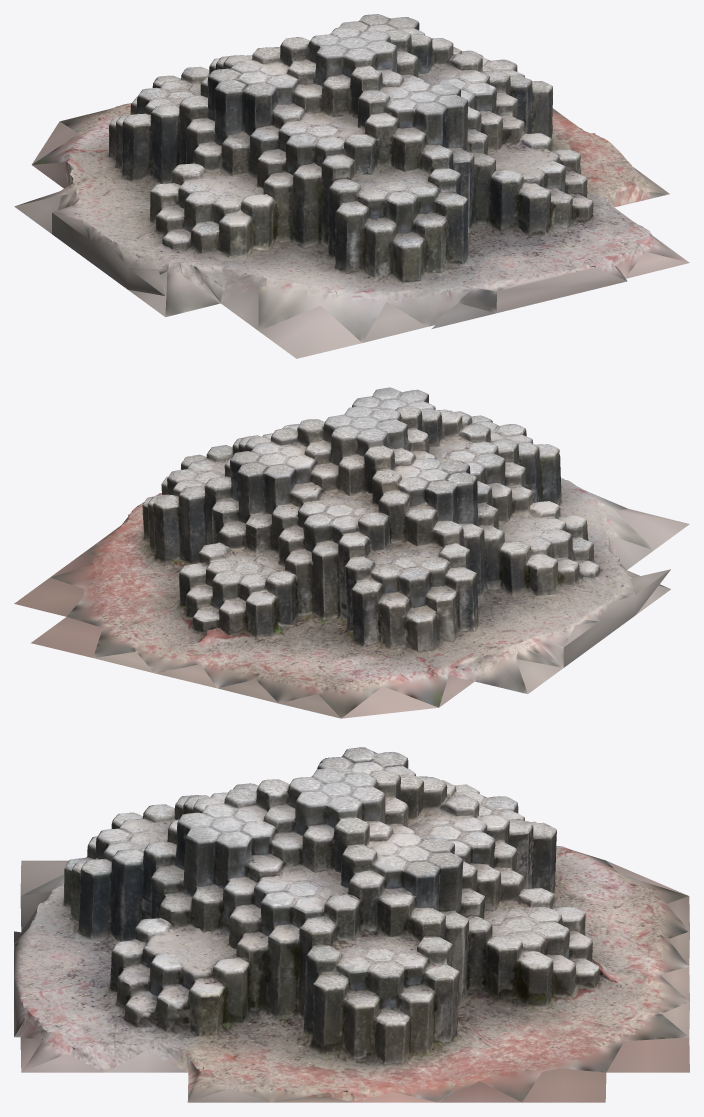
File: Hexagono_podio.glb
3 renders of one model, top to bottom at view 1: azimuth 30°, elevation 25°; view 2: azimuth 150°, elevation 25°; view 3: azimuth 270°, elevation 25°, orthographic. The views are drawn at different scales.
Visible parts, largest first — view 1: Object_2; view 2: Object_2; view 3: Object_2.
Boxes of the visible parts, <box> form: Object_2: <box>14,14,689,358</box>; Object_2: <box>14,387,689,718</box>; Object_2: <box>14,747,689,1102</box>.
Size of the model in its own units: 26.47 by 8.23 by 27.8.
Materials: 1 (1 with a texture image).
